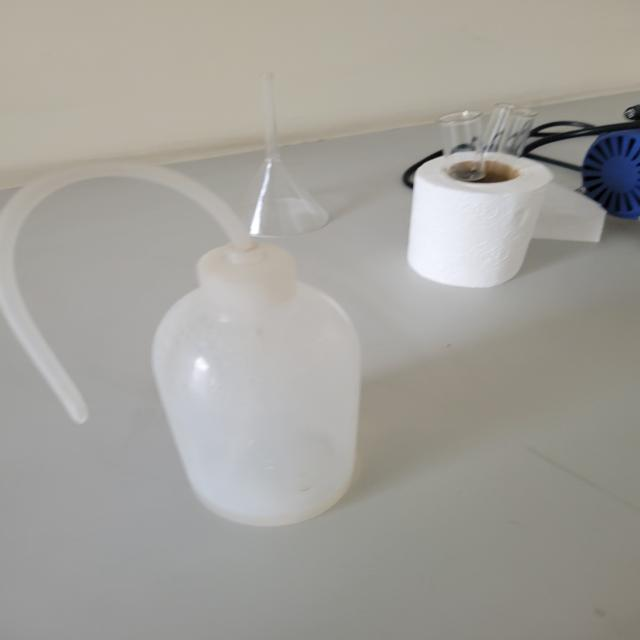Wash_Bottle: (0, 129, 370, 566)
